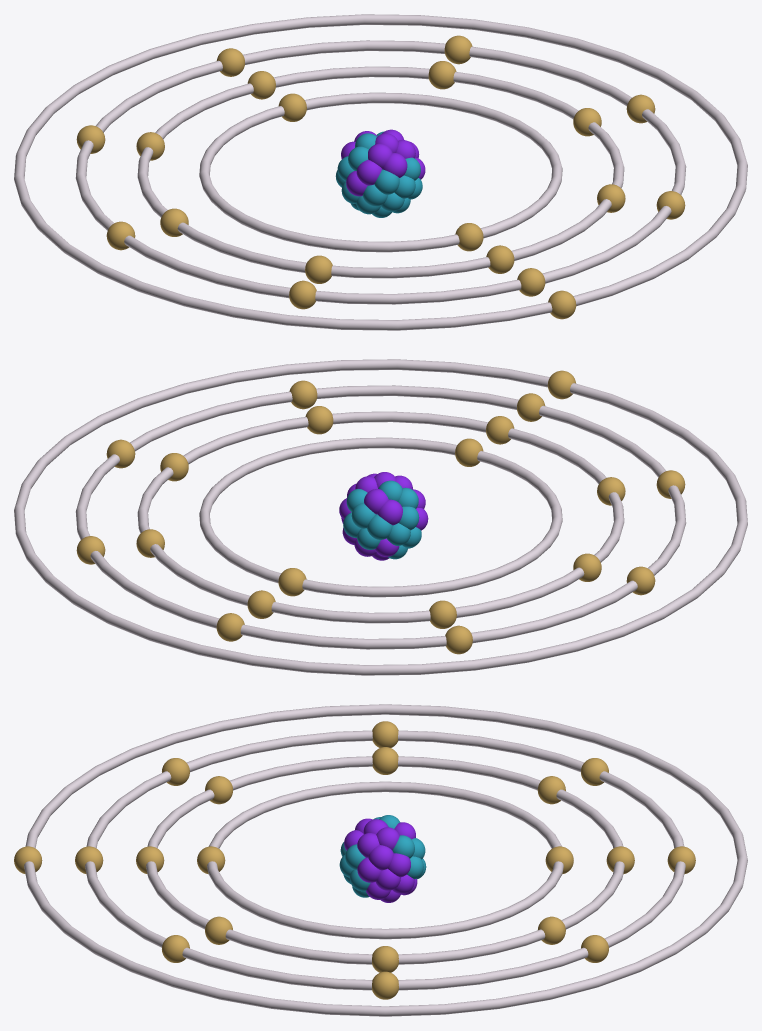
File: potassio.glb
The picture shows the model from 3 angles, top to bottom: view 1: azimuth 30°, elevation 25°; view 2: azimuth 150°, elevation 25°; view 3: azimuth 270°, elevation 25°; orthographic projection.
Parts seen in each view (by area): view 1: Orbita_4, Orbita_3, Orbita_2, Orbita_1, Nucleo_Completo, Eletron_C3_8, Eletron_C2_8, Eletron_C3_4, Eletron_C2_4, Eletron_C4_1, Eletron_1, Eletron_C2_1 (+12 smaller); view 2: Orbita_4, Orbita_3, Orbita_2, Orbita_1, Nucleo_Completo, Eletron_C3_6, Eletron_C2_6, Eletron_C3_2, Eletron_C2_2, Eletron_2, Eletron_C2_5, Eletron_C3_5 (+12 smaller); view 3: Orbita_4, Orbita_3, Orbita_2, Orbita_1, Nucleo_Completo, Eletron_C3_3, Eletron_C2_7, Eletron_C2_3, Eletron_C3_7, Eletron_C2_4, Eletron_C2_2, Eletron_C3_2 (+12 smaller).
Part boxes in pixels (x1,y1,x2,y2): Orbita_4: (14, 14, 747, 330); Orbita_3: (75, 40, 686, 304); Orbita_2: (137, 66, 624, 278); Orbita_1: (199, 92, 562, 252); Nucleo_Completo: (335, 129, 425, 217); Eletron_C3_8: (289, 280, 316, 309); Eletron_C2_8: (305, 255, 332, 283); Eletron_C3_4: (444, 35, 472, 64); Eletron_C2_4: (428, 61, 456, 89); Eletron_C4_1: (548, 290, 576, 319); Eletron_1: (455, 223, 483, 251); Eletron_C2_1: (486, 245, 514, 273); Orbita_4: (14, 359, 747, 675); Orbita_3: (75, 385, 686, 649); Orbita_2: (137, 411, 624, 623); Orbita_1: (199, 437, 562, 597); Nucleo_Completo: (339, 472, 428, 560); Eletron_C3_6: (445, 625, 472, 654); Eletron_C2_6: (429, 600, 456, 628); Eletron_C3_2: (289, 380, 317, 409); Eletron_C2_2: (305, 406, 333, 434); Eletron_2: (278, 568, 306, 596); Eletron_C2_5: (247, 590, 275, 618); Eletron_C3_5: (216, 613, 244, 641); Orbita_4: (24, 704, 747, 1016); Orbita_3: (85, 730, 685, 990); Orbita_2: (146, 756, 624, 964); Orbita_1: (207, 781, 563, 939); Nucleo_Completo: (339, 815, 426, 902); Eletron_C3_3: (372, 971, 398, 999); Eletron_C2_7: (372, 747, 398, 774); Eletron_C2_3: (372, 946, 398, 972); Eletron_C3_7: (372, 721, 398, 747); Eletron_C2_4: (538, 916, 565, 944); Eletron_C2_2: (205, 916, 232, 944); Eletron_C3_2: (162, 935, 189, 962).
Size of the model in its own units: 4.16 by 0.5027 by 4.21.
